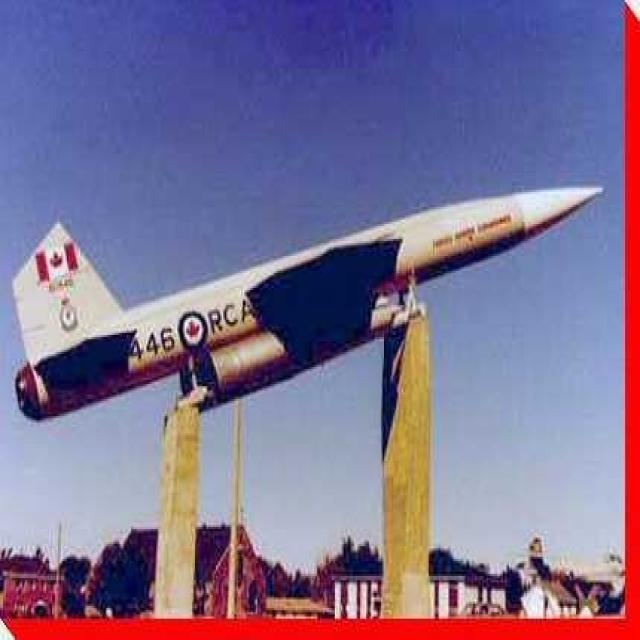missile: (0, 172, 613, 430)
